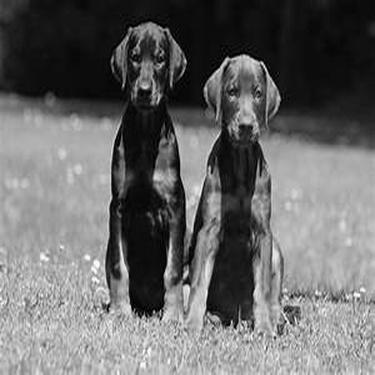dog: (79, 13, 213, 332), (178, 41, 308, 351)
